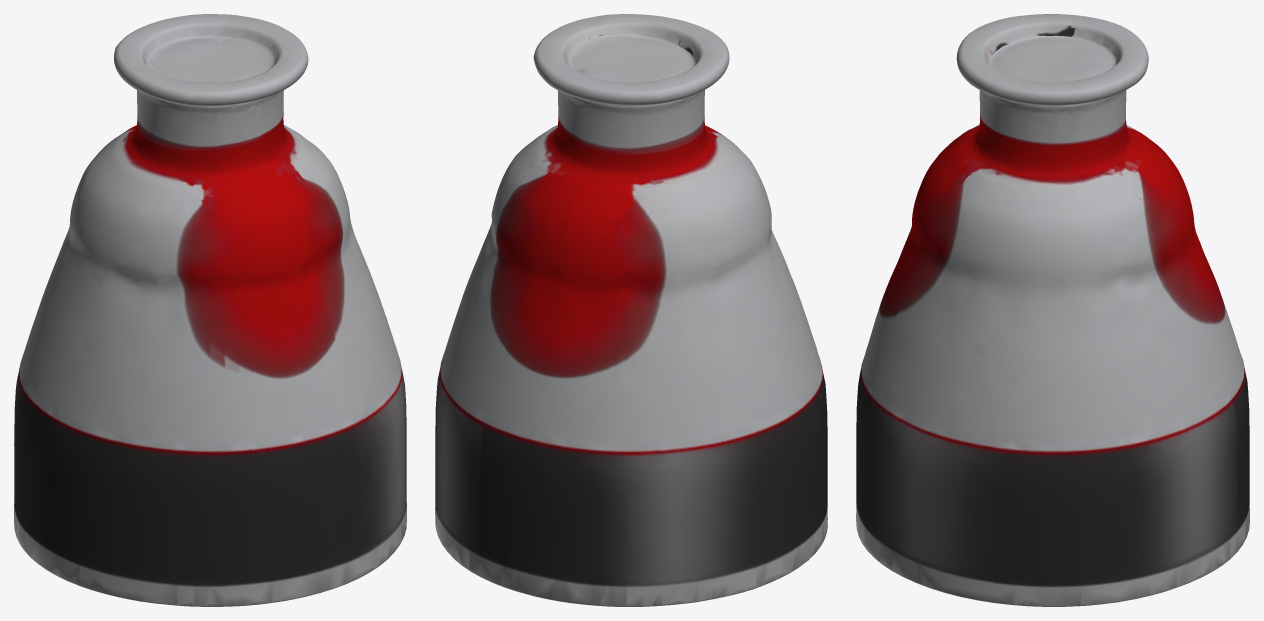
Rendered from potion_health.glb.
The picture shows the model from 3 angles, left to right: view 1: azimuth 30°, elevation 25°; view 2: azimuth 150°, elevation 25°; view 3: azimuth 270°, elevation 25°; orthographic projection.
Visible parts, largest first — view 1: world; view 2: world; view 3: world.
Part boxes in pixels (x1,y1,x2,y2): world: (14,14,406,606); world: (435,14,827,606); world: (856,14,1249,606).
Bounding box in the file's own units: 1.46 × 1.94 × 1.46.
Materials: 1 (1 with a texture image).
